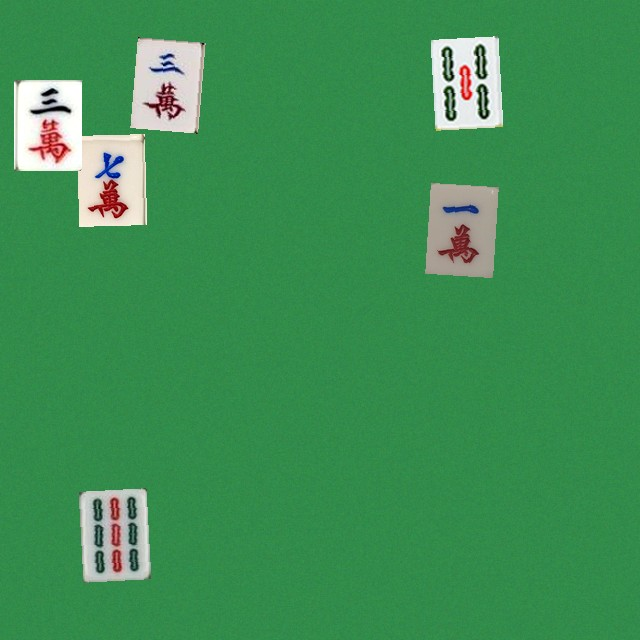tile: (430, 36, 498, 127), (76, 134, 144, 225), (130, 37, 198, 128), (13, 79, 81, 170), (78, 488, 146, 579), (425, 182, 493, 273)
